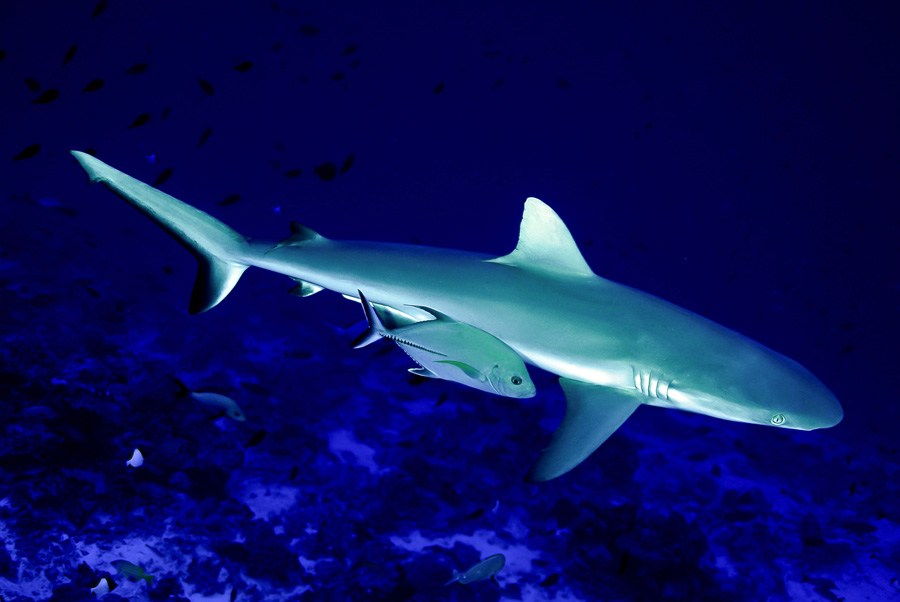Carcharhinus_amblyrhynchos: (66, 141, 856, 496)
